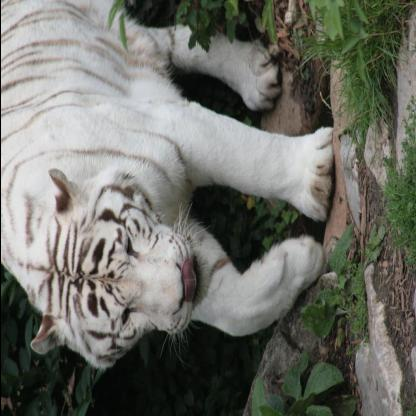tiger: (29, 161, 200, 367)
